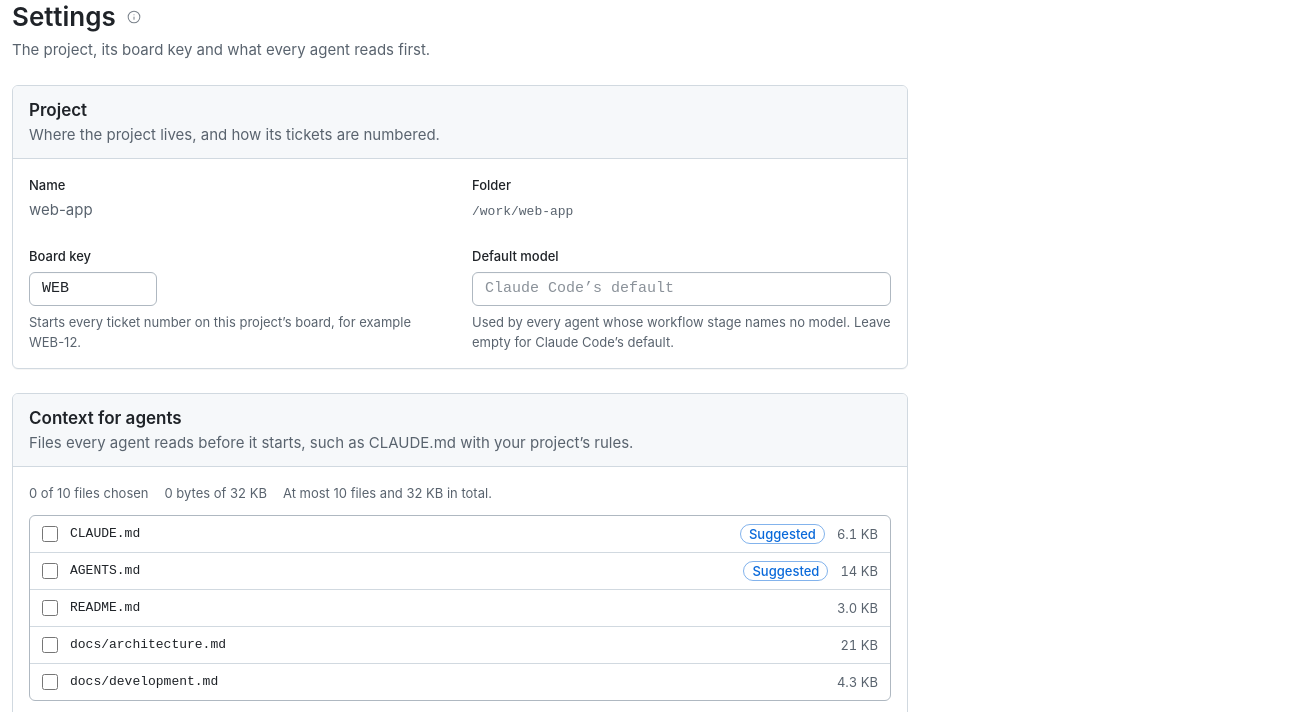
it: Project settings (#/p/:id/settings, docs/redesign/README.md §4.7) › shows a save refusal in plain words
In the field labelled "Default model": (682, 289) [472,272,891,306], type "other-model"
(page scrolled)
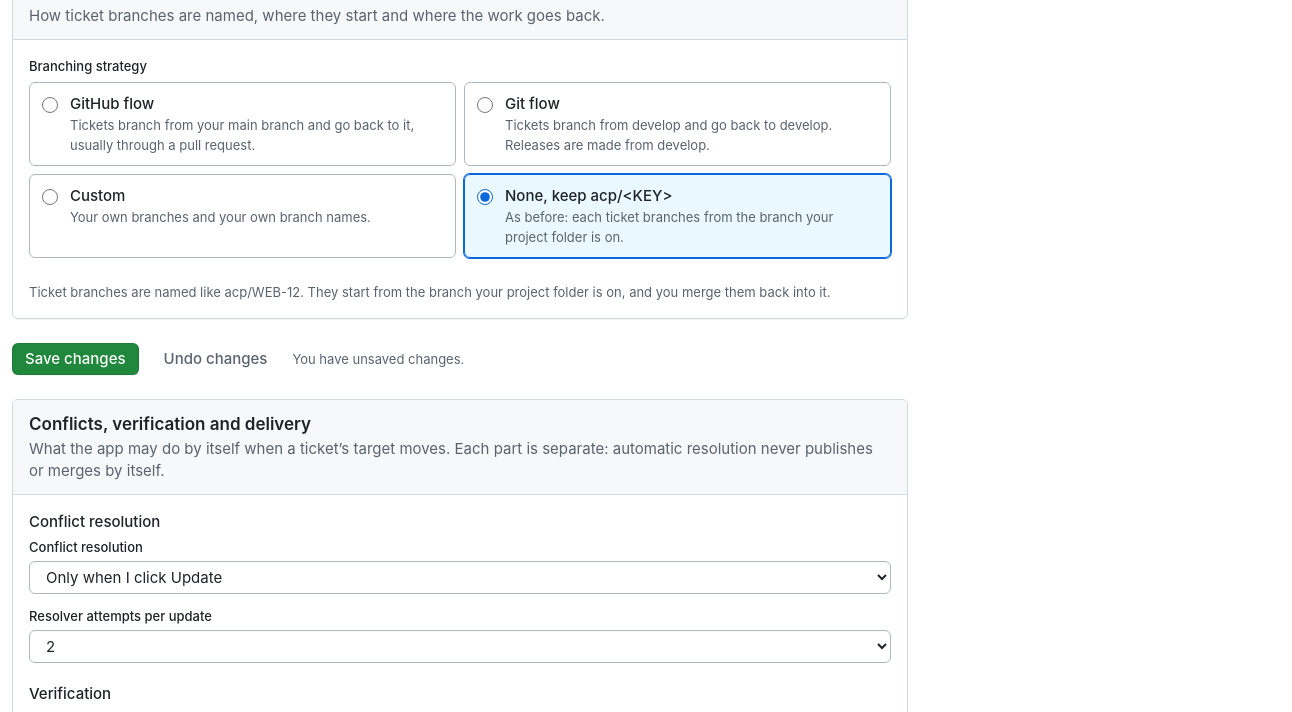
Click the button "Save changes": (75, 359) [12,343,138,375]
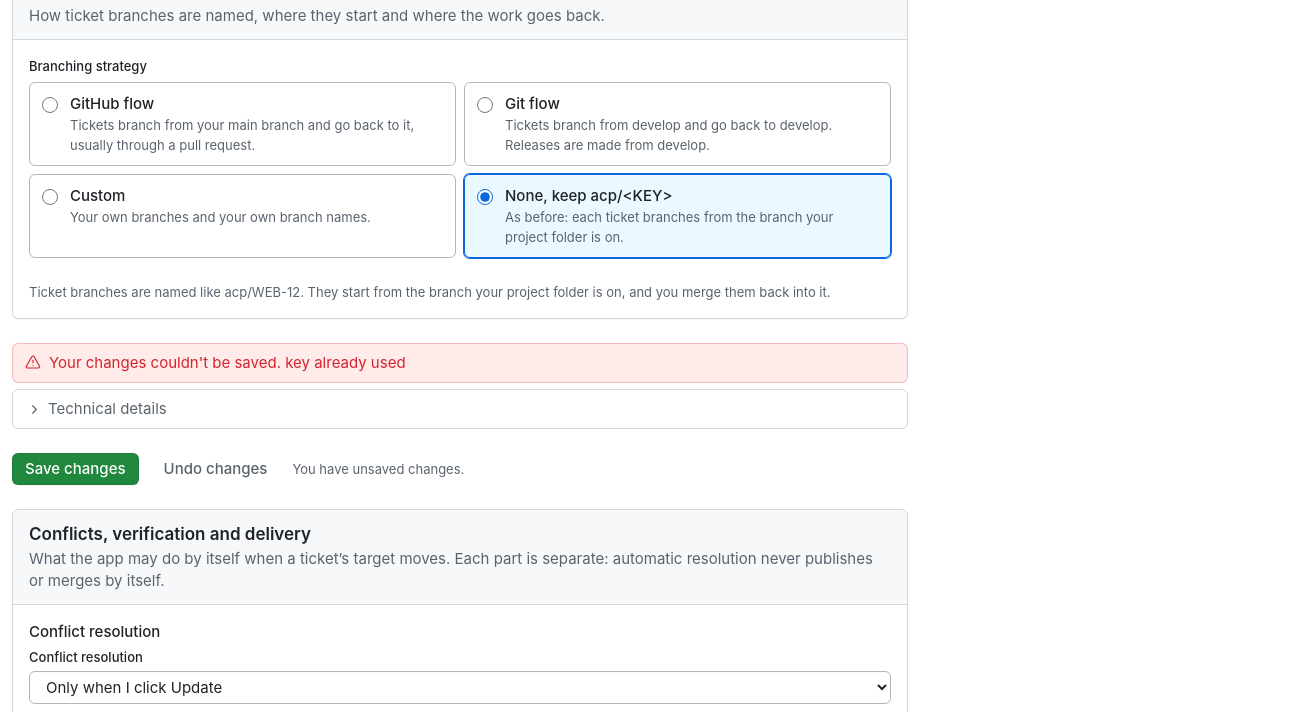
Expected: the text "Your changes couldn't be saved. key already used" is shown, [49,352,406,374]
